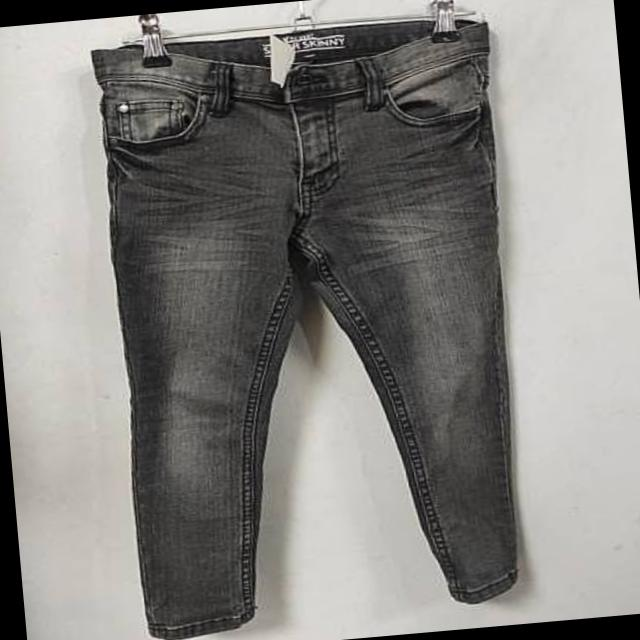TROUSER: (69, 3, 558, 640)
